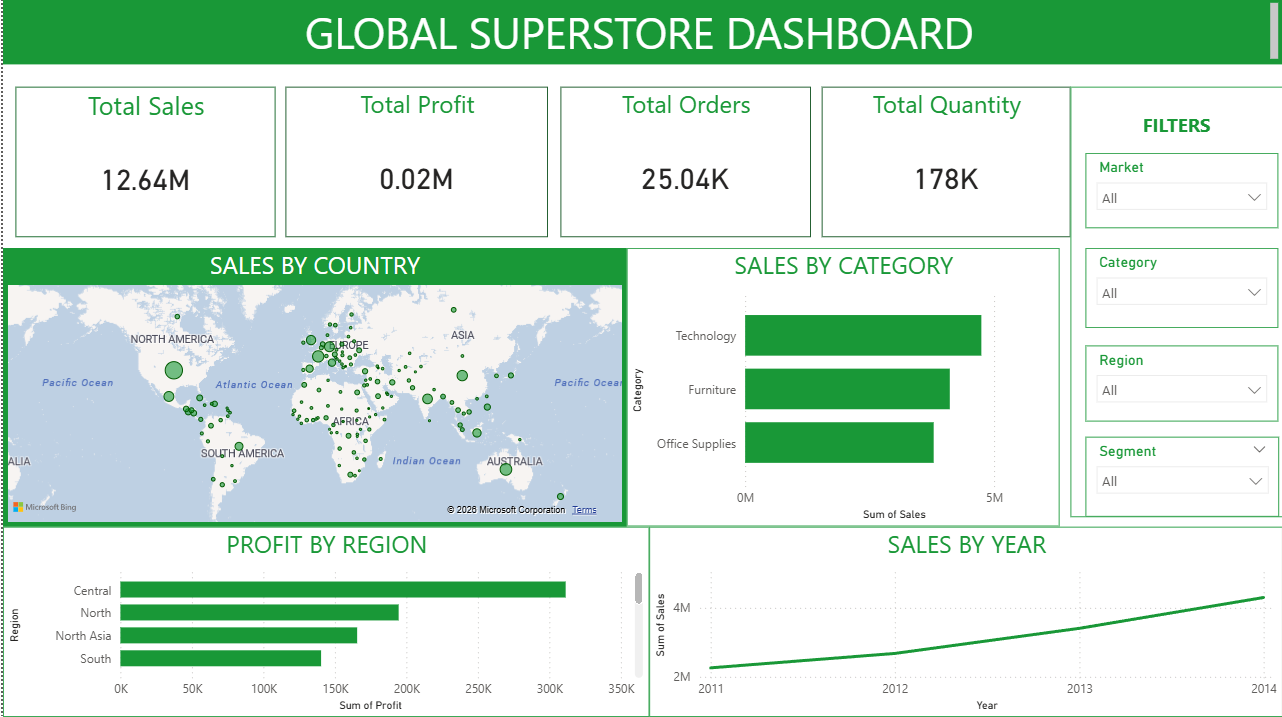

What the dashboard file says about the page in this screenshot:
{"tool":"powerbi","page":{"name":"Page 1","canvas":[1280,720],"ordinal":0},"visuals":[{"type":"card","title":"Total Sales","fields":{"Values":["Sum(Global_Superstore_Cleaned.Sales)"]},"box":[12.5,88.8,260,150],"z":0},{"type":"card","title":"Total Profit","fields":{"Values":["Count(Global_Superstore_Cleaned.Profit)"]},"box":[282.5,88.8,262.5,150],"z":1000},{"type":"card","title":"Total Orders","fields":{"Values":["Count(Global_Superstore_Cleaned.Order ID)"]},"box":[557.5,88.8,250,150],"z":2000},{"type":"card","title":"Total Quantity","fields":{"Values":["Sum(Global_Superstore_Cleaned.Quantity)"]},"box":[818.8,88.8,248.8,150],"z":3000},{"type":"textbox","box":[12.5,303.8,1267.5,87.5],"z":4000},{"type":"textbox","box":[12.5,487.5,1267.5,82.5],"z":5000},{"type":"textbox","box":[0,0,1280,66.2],"z":6000},{"type":"map","title":"SALES BY COUNTRY","fields":{"Category":["Global_Superstore_Cleaned.Country"],"Size":["Sum(Global_Superstore_Cleaned.Sales)"]},"box":[0,250,623.8,278.8],"z":7000},{"type":"textbox","title":"TITLE","box":[1067.5,88.8,212.5,430],"z":8000},{"type":"slicer","fields":{"Values":["Global_Superstore_Cleaned.Market"]},"box":[1082.5,155,192.5,75],"z":9000},{"type":"slicer","fields":{"Values":["Global_Superstore_Cleaned.Category"]},"box":[1082.5,250,192.5,80],"z":10000},{"type":"clusteredBarChart","title":"SALES BY CATEGORY","fields":{"Category":["Global_Superstore_Cleaned.Category"],"Y":["Sum(Global_Superstore_Cleaned.Sales)"]},"box":[623.8,250,432.5,278.8],"z":11000},{"type":"clusteredBarChart","title":"PROFIT BY REGION","fields":{"Category":["Global_Superstore_Cleaned.Region"],"Y":["Sum(Global_Superstore_Cleaned.Profit)"]},"box":[0,528.8,646.2,191.2],"z":12000},{"type":"lineChart","title":"SALES BY YEAR","fields":{"Category":["Global_Superstore_Cleaned.Order Date.Variation.Date Hierarchy.Year"],"Y":["Sum(Global_Superstore_Cleaned.Sales)"]},"box":[646.2,528.8,633.8,191.2],"z":13000},{"type":"slicer","fields":{"Values":["Global_Superstore_Cleaned.Region"]},"box":[1082.5,347.5,192.5,76.2],"z":14000},{"type":"slicer","fields":{"Values":["Global_Superstore_Cleaned.Segment"]},"box":[1082.5,438.8,193.8,80],"z":15000}]}

Visuals, with their boxes in screenshot pixels (x1, y1, x2, y2), scaled from the page's 1280x720 canvas onto the 1282x717 screenshot:
"Total Sales" card: box=[13, 88, 273, 238]
"Total Profit" card: box=[283, 88, 546, 238]
"Total Orders" card: box=[558, 88, 809, 238]
"Total Quantity" card: box=[820, 88, 1069, 238]
textbox: box=[13, 303, 1281, 390]
textbox: box=[13, 485, 1281, 568]
textbox: box=[0, 0, 1281, 66]
"SALES BY COUNTRY" map: box=[0, 249, 625, 527]
"TITLE" textbox: box=[1069, 88, 1281, 517]
slicer - Global_Superstore_Cleaned.Market: box=[1084, 154, 1277, 229]
slicer - Global_Superstore_Cleaned.Category: box=[1084, 249, 1277, 329]
"SALES BY CATEGORY" clusteredBarChart: box=[625, 249, 1058, 527]
"PROFIT BY REGION" clusteredBarChart: box=[0, 527, 647, 716]
"SALES BY YEAR" lineChart: box=[647, 527, 1281, 716]
slicer - Global_Superstore_Cleaned.Region: box=[1084, 346, 1277, 422]
slicer - Global_Superstore_Cleaned.Segment: box=[1084, 437, 1278, 517]
